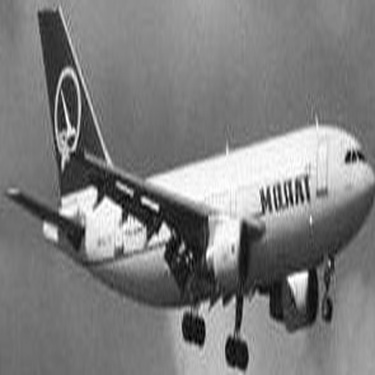airplane: (3, 1, 368, 372)
